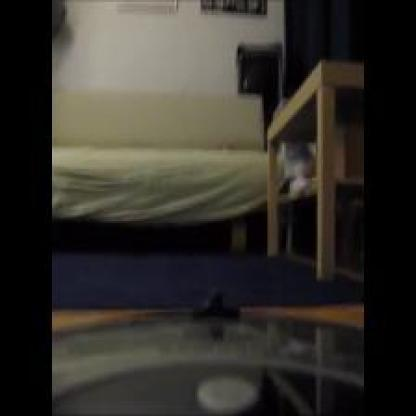other: (46, 68, 304, 219)
